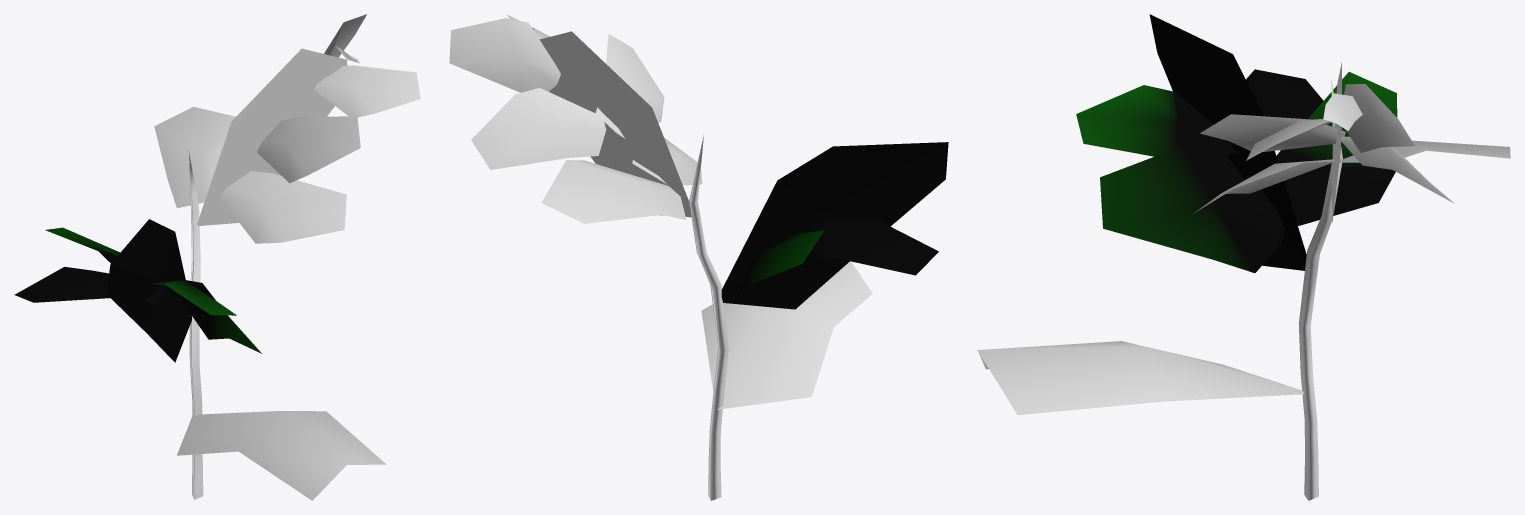
The model's file is CTI_Leaf.fbx.
3 views of the same model, side by side, from view 1: azimuth 30°, elevation 25°; view 2: azimuth 150°, elevation 25°; view 3: azimuth 270°, elevation 25° (orthographic). The views are drawn at different scales.
Parts seen in each view (by area): view 1: twig_02_1_2_xw05_xt07_xp06_xlod02; view 2: twig_02_1_2_xw05_xt07_xp06_xlod02; view 3: twig_02_1_2_xw05_xt07_xp06_xlod02.
Part boxes in pixels (x1,y1,x2,y2): twig_02_1_2_xw05_xt07_xp06_xlod02: (14, 14, 420, 500); twig_02_1_2_xw05_xt07_xp06_xlod02: (449, 14, 948, 500); twig_02_1_2_xw05_xt07_xp06_xlod02: (977, 14, 1510, 500).
Bounding box in the file's own units: 112 × 114 × 107.
